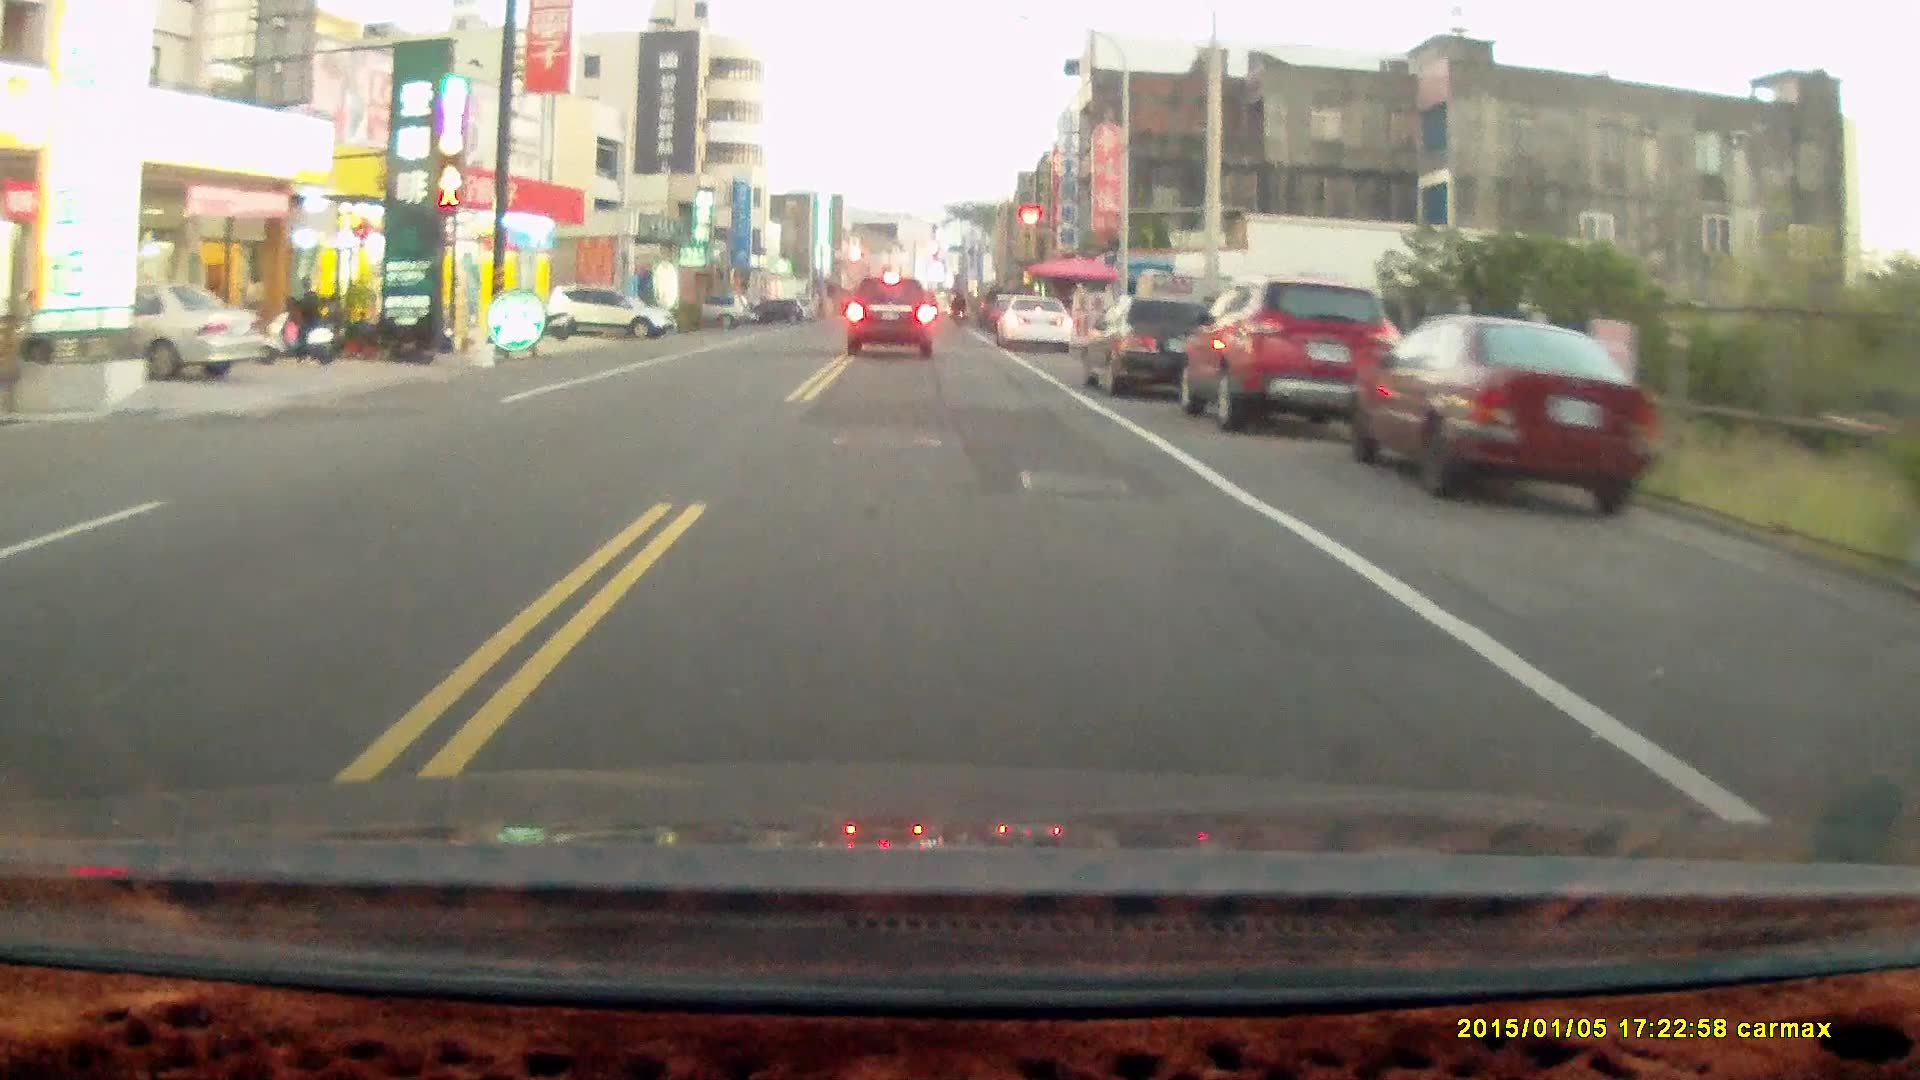vehicle: (1346, 314, 1664, 520), (1185, 276, 1416, 433), (44, 285, 262, 385), (1083, 295, 1229, 398), (547, 285, 678, 345), (847, 280, 938, 363), (997, 295, 1075, 353)
